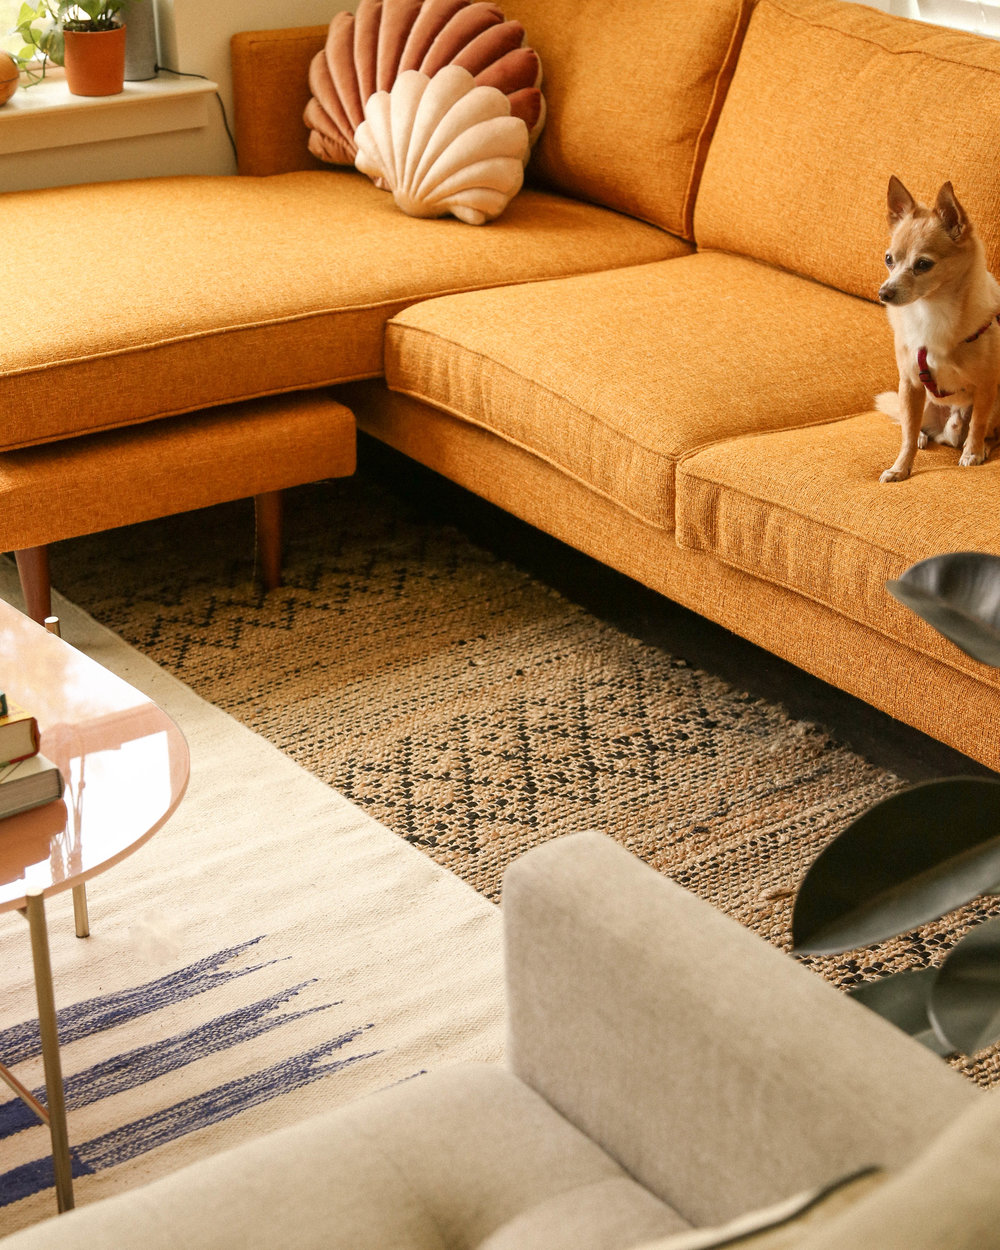coklat: (349, 1, 1000, 652), (1, 169, 349, 559), (62, 16, 130, 106)
